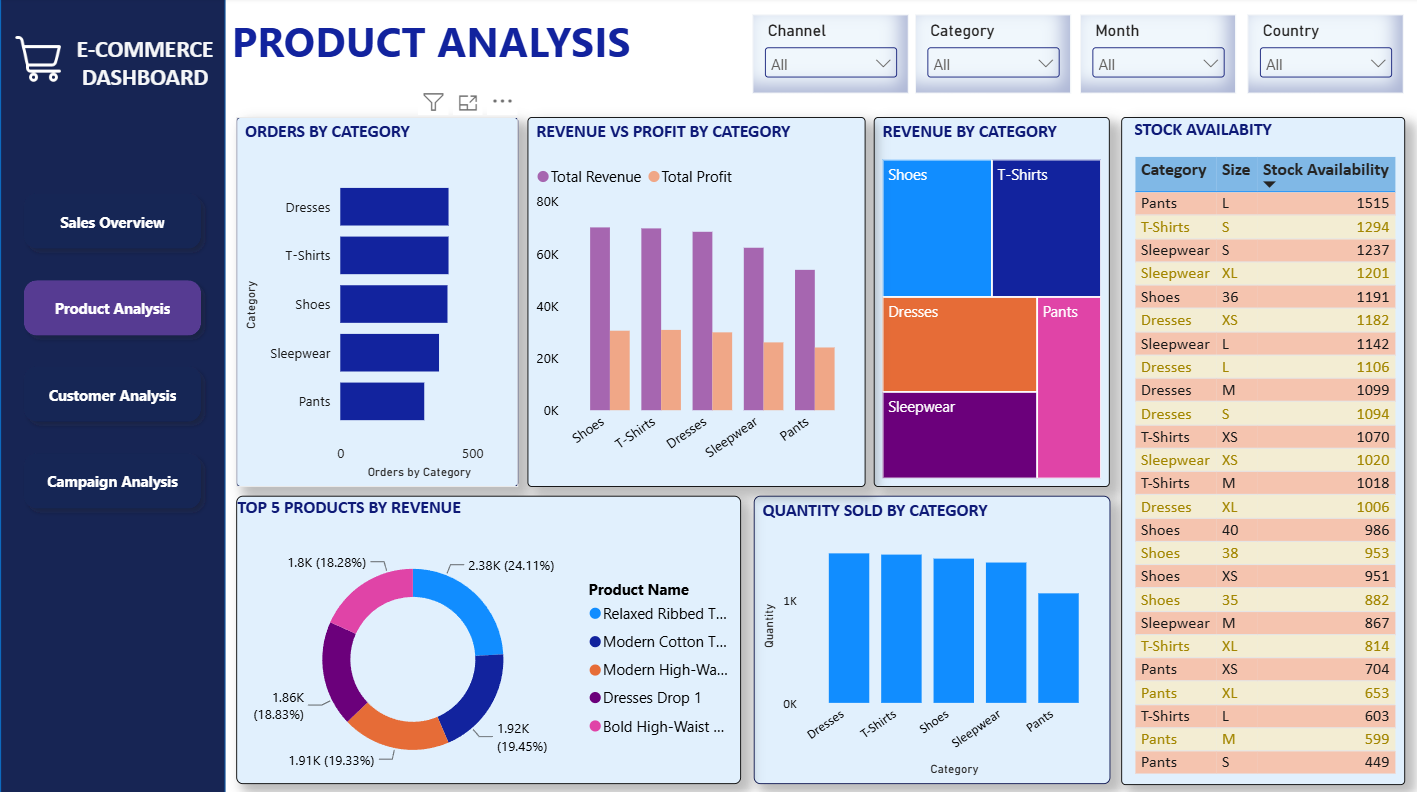

The dashboard page shown, as its layout file describes it:
{"tool":"powerbi","page":{"name":"Product Analysis","canvas":[1280,720],"ordinal":1},"visuals":[{"type":"shape","box":[0,0,203.5,719.8],"z":0,"group":"g1"},{"type":"treemap","title":"REVENUE BY CATEGORY","fields":{"Group":["Store Products.Category"],"Values":["KPIMeasures.Total Revenue"]},"box":[788.4,108.1,212.8,333.7],"z":0},{"type":"slicer","fields":{"Values":["Store Products.Category"]},"box":[826.2,16.3,141.1,71.4],"z":1000,"group":"g3"},{"type":"pageNavigator","box":[12.4,167.9,178.1,302.1],"z":1000,"group":"g1"},{"type":"columnChart","title":"QUANTITY SOLD BY CATEGORY","fields":{"Category":["Store Products.Category"],"Y":["KPIMeasures.Units Sold"]},"box":[679.7,449.7,321.2,260.4],"z":1000},{"type":"textbox","title":"E-COMMERCE DASHBOARD","box":[57,33.7,146.5,54.7],"z":2000,"group":"g1"},{"type":"barChart","title":"ORDERS BY CATEGORY","fields":{"Category":["Store Products.Category"],"Y":["KPIMeasures.Orders by Category"]},"box":[212.8,108.1,254.7,333.7],"z":2000},{"type":"slicer","fields":{"Values":["Store Sales.Country"]},"box":[1125.3,16.3,141.1,71.4],"z":3000,"group":"g3"},{"type":"image","box":[12.8,33.7,44.2,44.2],"z":3000,"group":"g1"},{"type":"textbox","title":"E-COMMERCE DASHBOARD","box":[57,33.7,146.5,54.7],"z":3000},{"type":"slicer","fields":{"Values":["Store Sales Item.Month"]},"box":[974.2,16.3,141.1,71.4],"z":3250,"group":"g3"},{"type":"slicer","fields":{"Values":["Store Sales.Channel"]},"box":[679.1,16.3,141.1,71.4],"z":3500,"group":"g3"},{"type":"clusteredColumnChart","title":"REVENUE VS PROFIT BY CATEGORY","fields":{"Category":["Store Products.Category"],"Y":["KPIMeasures.Total Revenue","KPIMeasures.Total Profit"]},"box":[475.6,108.1,304.7,333.7],"z":4000},{"type":"image","box":[12.8,33.7,44.2,44.2],"z":5000},{"type":"donutChart","title":"TOP 5 PRODUCTS BY REVENUE","fields":{"Category":["Store Products.Product Name"],"Y":["KPIMeasures.Total Revenue"]},"box":[213.4,450.2,454.9,260.3],"z":6000},{"type":"textbox","box":[204,9,379.8,68.8],"z":7000},{"type":"group","id":"g1","title":"Group 1","box":[0,0,204,720.2],"z":8000},{"type":"group","id":"g2","title":"Group 3","box":[679.1,16.3,587.2,70.9],"z":9000},{"type":"tableEx","title":"STOCK AVAILABITY","fields":{"Values":["Store Products.Category","Store Products.Size","Sum(Store Stock.Stock Quantity)"]},"box":[1010.5,108.1,255.8,602.3],"z":10000},{"type":"group","id":"g3","title":"Group 2","box":[679.1,16.3,587.3,71.4],"z":10001,"group":"g4"},{"type":"group","id":"g4","title":"Group 4","box":[679.1,16.3,587.3,71.4],"z":11000,"group":"g2"}]}

Visuals, with their boxes in screenshot pixels (x1, y1, x2, y2), scaled from the page's 1280x720 canvas onto the 1417x792 screenshot:
shape: <bbox>0, 0, 225, 791</bbox>
"REVENUE BY CATEGORY" treemap: <bbox>873, 119, 1108, 486</bbox>
slicer - Store Products.Category: <bbox>915, 18, 1071, 96</bbox>
pageNavigator: <bbox>14, 185, 211, 517</bbox>
"QUANTITY SOLD BY CATEGORY" columnChart: <bbox>752, 495, 1108, 781</bbox>
"E-COMMERCE DASHBOARD" textbox: <bbox>63, 37, 225, 97</bbox>
"ORDERS BY CATEGORY" barChart: <bbox>236, 119, 518, 486</bbox>
slicer - Store Sales.Country: <bbox>1246, 18, 1402, 96</bbox>
image: <bbox>14, 37, 63, 86</bbox>
"E-COMMERCE DASHBOARD" textbox: <bbox>63, 37, 225, 97</bbox>
slicer - Store Sales Item.Month: <bbox>1078, 18, 1235, 96</bbox>
slicer - Store Sales.Channel: <bbox>752, 18, 908, 96</bbox>
"REVENUE VS PROFIT BY CATEGORY" clusteredColumnChart: <bbox>527, 119, 864, 486</bbox>
image: <bbox>14, 37, 63, 86</bbox>
"TOP 5 PRODUCTS BY REVENUE" donutChart: <bbox>236, 495, 740, 782</bbox>
textbox: <bbox>226, 10, 646, 86</bbox>
"Group 1" group: <bbox>0, 0, 226, 791</bbox>
"Group 3" group: <bbox>752, 18, 1402, 96</bbox>
"STOCK AVAILABITY" tableEx: <bbox>1119, 119, 1402, 781</bbox>
"Group 2" group: <bbox>752, 18, 1402, 96</bbox>
"Group 4" group: <bbox>752, 18, 1402, 96</bbox>
